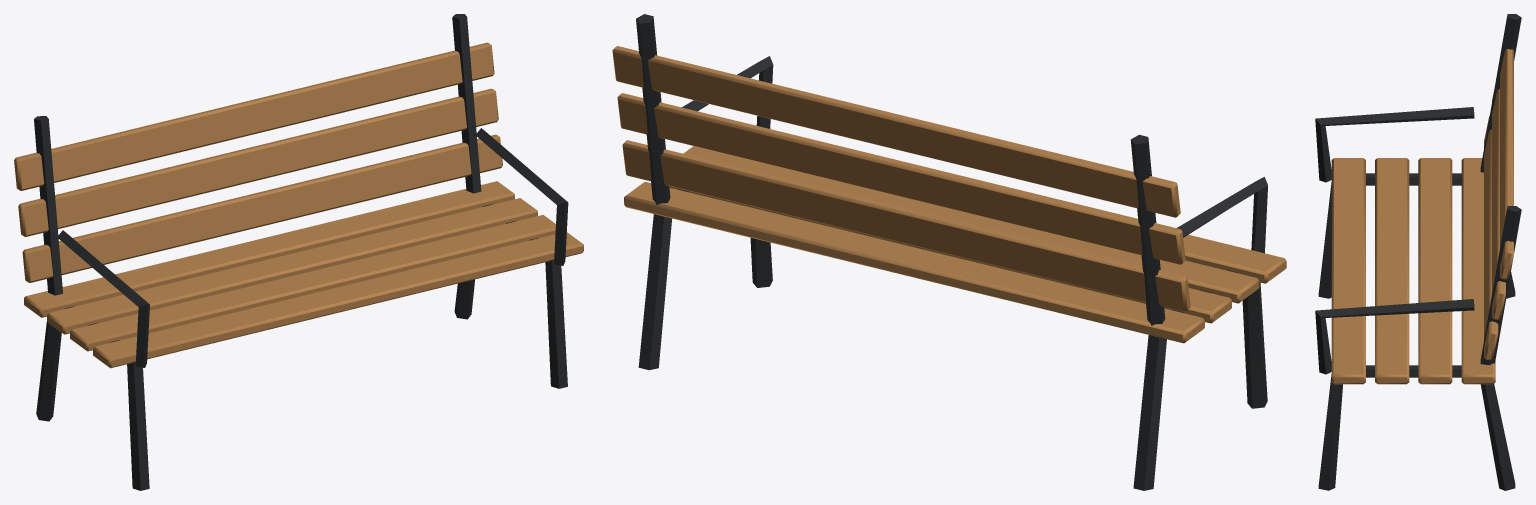
Rendered from 153_banc_bois_fonte.fbx.
3 views of the same model, side by side, from view 1: azimuth 30°, elevation 25°; view 2: azimuth 150°, elevation 25°; view 3: azimuth 270°, elevation 25° (orthographic). The views are drawn at different scales.
Parts seen in each view (by area): view 1: Banc; view 2: Banc; view 3: Banc.
Part boxes in pixels (x1=…): Banc: x1=14, y1=14, x2=583, y2=490; Banc: x1=612, y1=14, x2=1286, y2=490; Banc: x1=1315, y1=14, x2=1521, y2=490.
Size of the model in its own units: 1.4 by 0.84 by 0.56.
Materials: 1 (1 with a texture image).
